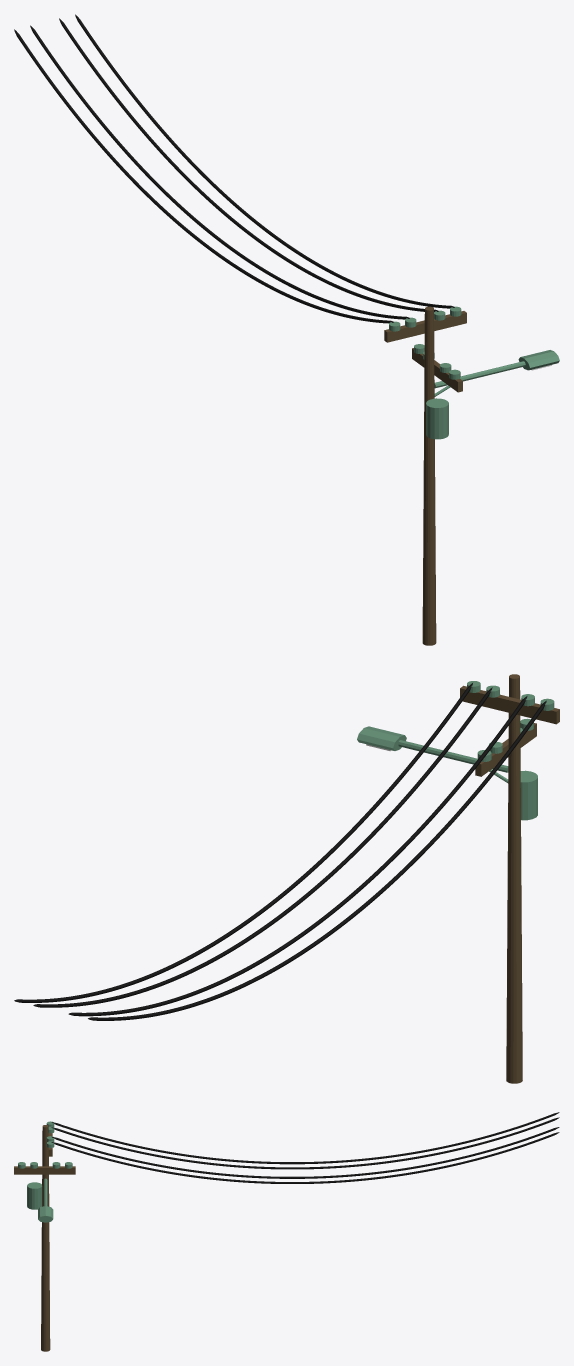
Rendered from streetlight-with-wires.fbx.
The picture shows the model from 3 angles, top to bottom: view 1: azimuth 30°, elevation 25°; view 2: azimuth 150°, elevation 25°; view 3: azimuth 270°, elevation 25°; orthographic projection. The views are drawn at different scales.
Visible parts, largest first — view 1: pole, wire.003, wire.001, wire.002, wire, oildrum, bar; view 2: pole, wire.001, wire, wire.002, wire.003, bar, oildrum, lamp-end, bar.001, lamp-arm; view 3: pole, wire.001, wire, wire.002, wire.003, bar.001, oildrum.
Boxes of the visible parts, box(x1,y1,x2,y2) form: pole: box(422, 306, 436, 645); wire.003: box(75, 14, 454, 308); wire.001: box(30, 25, 409, 319); wire.002: box(14, 29, 393, 323); wire: box(59, 18, 438, 311); oildrum: box(426, 398, 448, 439); bar: box(384, 311, 466, 342); pole: box(506, 674, 522, 1083); wire.001: box(68, 696, 527, 1016); wire: box(33, 687, 492, 1007); wire.002: box(88, 700, 546, 1020); wire.003: box(14, 683, 472, 1002); bar: box(460, 685, 559, 724); oildrum: box(520, 770, 537, 820); lamp-end: box(357, 726, 406, 750); bar.001: box(475, 723, 536, 776); lamp-arm: box(398, 740, 508, 772); pole: box(41, 1125, 50, 1351); wire.001: box(51, 1117, 559, 1169); wire: box(52, 1127, 559, 1178); wire.002: box(51, 1112, 559, 1164); wire.003: box(51, 1132, 559, 1183); bar.001: box(14, 1166, 75, 1174); oildrum: box(27, 1182, 42, 1209).
Size of the model in its own units: 825 by 1627 by 3540.
